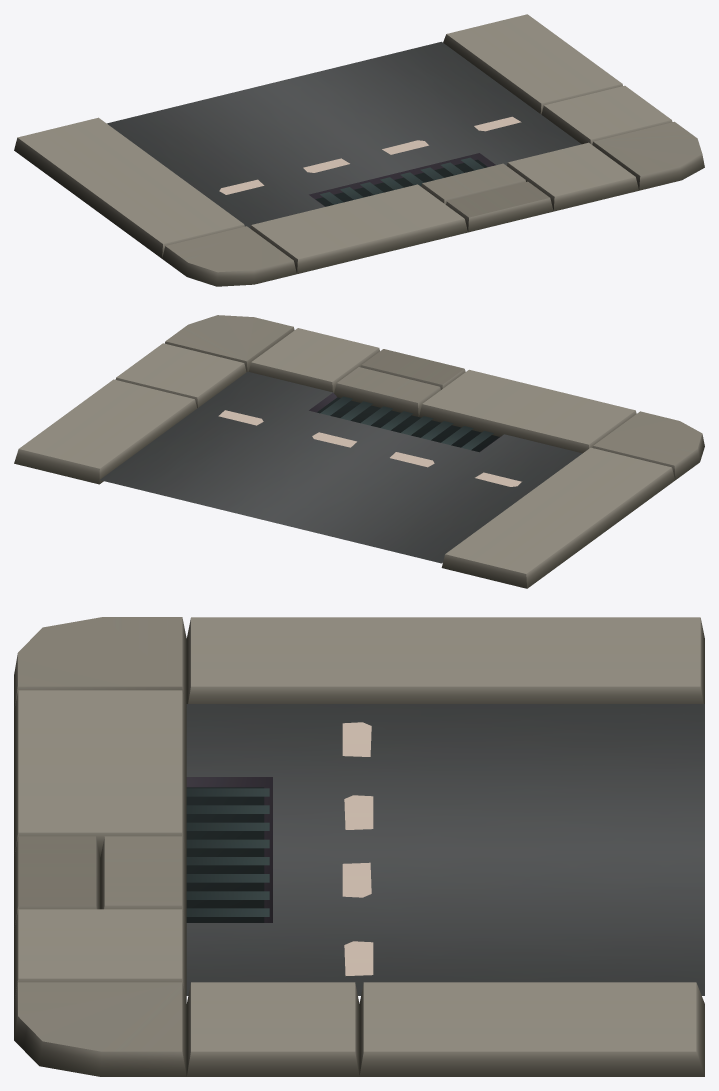
File: Road_3W.fbx
3 renders of one model, top to bottom at view 1: azimuth 30°, elevation 25°; view 2: azimuth 150°, elevation 25°; view 3: azimuth 270°, elevation 25°, orthographic. The views are drawn at different scales.
Visible parts, largest first — view 1: Road_3W; view 2: Road_3W; view 3: Road_3W.
Part boxes in pixels (x1=…): Road_3W: x1=14, y1=14, x2=704, y2=286; Road_3W: x1=14, y1=315, x2=704, y2=588; Road_3W: x1=14, y1=617, x2=704, y2=1076.
Bounding box in the file's own units: 1200 × 30 × 800.
